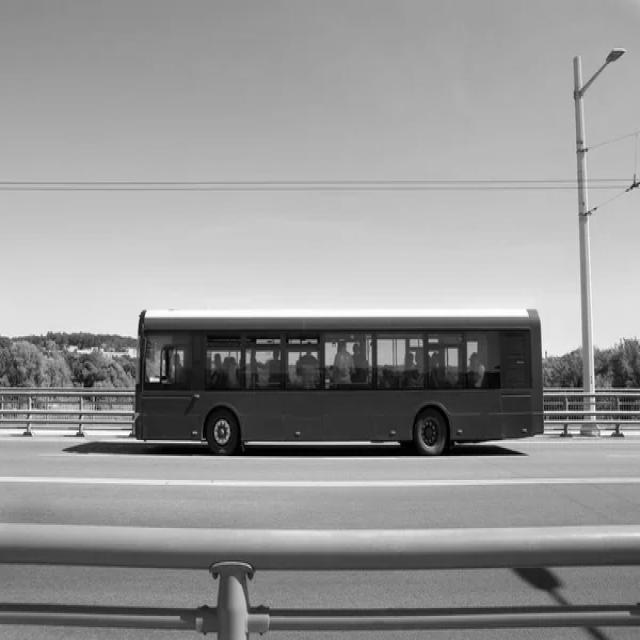Bus: (134, 309, 545, 454)
Pole: (575, 48, 626, 409)
